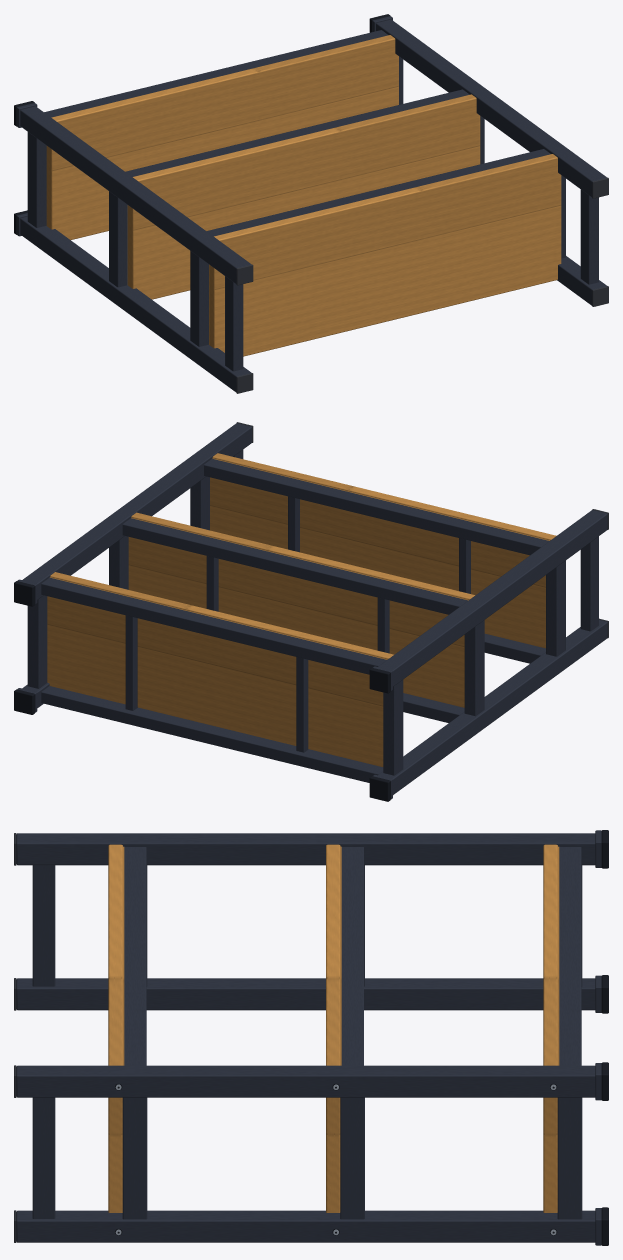
The model's file is filament-rack.glb.
3 renders of one model, top to bottom at view 1: azimuth 30°, elevation 25°; view 2: azimuth 150°, elevation 25°; view 3: azimuth 270°, elevation 25°, orthographic. The views are drawn at different scales.
Visible parts, largest first — view 1: Shelf_Filament_2_Wood, Shelf_Filament_1_Wood, Shelf_Filament_0_Wood, Leg_Filament_01_Upright, Leg_Filament_00_Upright, Leg_Filament_11_Upright, Frame_Filament_2_LongApron1, Frame_Filament_0_LongApron1, Frame_Filament_1_LongApron1, Frame_Filament_0_SideApron0, Frame_Filament_UpperGuard1, Frame_Filament_1_SideApron0 (+3 smaller); view 2: Shelf_Filament_0_Underlip, Shelf_Filament_1_Underlip, Shelf_Filament_2_Underlip, Leg_Filament_01_Upright, Frame_Filament_1_LongApron1, Frame_Filament_2_LongApron1, Frame_Filament_0_LongApron1, Frame_Filament_0_LongApron0, Leg_Filament_00_Upright, Leg_Filament_11_Upright, Shelf_Filament_0_Wood, Shelf_Filament_1_Wood (+16 smaller); view 3: Leg_Filament_11_Upright, Leg_Filament_10_Upright, Leg_Filament_01_Upright, Leg_Filament_00_Upright, Shelf_Filament_0_Wood, Shelf_Filament_2_Wood, Shelf_Filament_1_Wood, Frame_Filament_0_LongApron1, Frame_Filament_1_LongApron1, Frame_Filament_2_LongApron1, Frame_Filament_0_SideApron1, Frame_Filament_2_SideApron1 (+3 smaller).
Boxes of the visible parts, bbox=[...] form: Shelf_Filament_2_Wood: bbox=[209, 154, 561, 356]; Shelf_Filament_1_Wood: bbox=[127, 94, 480, 299]; Shelf_Filament_0_Wood: bbox=[46, 35, 398, 239]; Leg_Filament_01_Upright: bbox=[20, 106, 251, 284]; Leg_Filament_00_Upright: bbox=[20, 216, 251, 392]; Leg_Filament_11_Upright: bbox=[376, 19, 607, 197]; Frame_Filament_2_LongApron1: bbox=[206, 149, 550, 236]; Frame_Filament_0_LongApron1: bbox=[44, 30, 388, 117]; Frame_Filament_1_LongApron1: bbox=[125, 89, 469, 176]; Frame_Filament_0_SideApron0: bbox=[27, 132, 46, 227]; Frame_Filament_UpperGuard1: bbox=[580, 189, 598, 284]; Frame_Filament_1_SideApron0: bbox=[109, 191, 127, 287]; Shelf_Filament_0_Underlip: bbox=[47, 577, 387, 766]; Shelf_Filament_1_Underlip: bbox=[128, 517, 468, 707]; Shelf_Filament_2_Underlip: bbox=[210, 458, 549, 648]; Leg_Filament_01_Upright: bbox=[378, 510, 607, 686]; Frame_Filament_1_LongApron1: bbox=[122, 518, 467, 614]; Frame_Filament_2_LongApron1: bbox=[204, 458, 549, 555]; Frame_Filament_0_LongApron1: bbox=[41, 577, 386, 674]; Frame_Filament_0_LongApron0: bbox=[41, 686, 383, 782]; Leg_Filament_00_Upright: bbox=[378, 620, 607, 794]; Leg_Filament_11_Upright: bbox=[22, 423, 251, 599]; Shelf_Filament_0_Wood: bbox=[50, 572, 393, 659]; Shelf_Filament_1_Wood: bbox=[131, 512, 475, 599]; Leg_Filament_11_Upright: bbox=[16, 1065, 595, 1097]; Leg_Filament_10_Upright: bbox=[16, 1210, 595, 1242]; Leg_Filament_01_Upright: bbox=[16, 833, 595, 865]; Leg_Filament_00_Upright: bbox=[16, 978, 595, 1010]; Shelf_Filament_0_Wood: bbox=[543, 844, 557, 1212]; Shelf_Filament_2_Wood: bbox=[108, 844, 122, 1212]; Shelf_Filament_1_Wood: bbox=[326, 844, 340, 1212]; Frame_Filament_0_LongApron1: bbox=[559, 847, 581, 1065]; Frame_Filament_1_LongApron1: bbox=[341, 847, 363, 1065]; Frame_Filament_2_LongApron1: bbox=[124, 847, 146, 1065]; Frame_Filament_0_SideApron1: bbox=[557, 1097, 582, 1219]; Frame_Filament_2_SideApron1: bbox=[122, 1097, 147, 1219].
Size of the model in its own units: 1.41 by 0.462 by 1.45.
6 materials, 5 textured.
